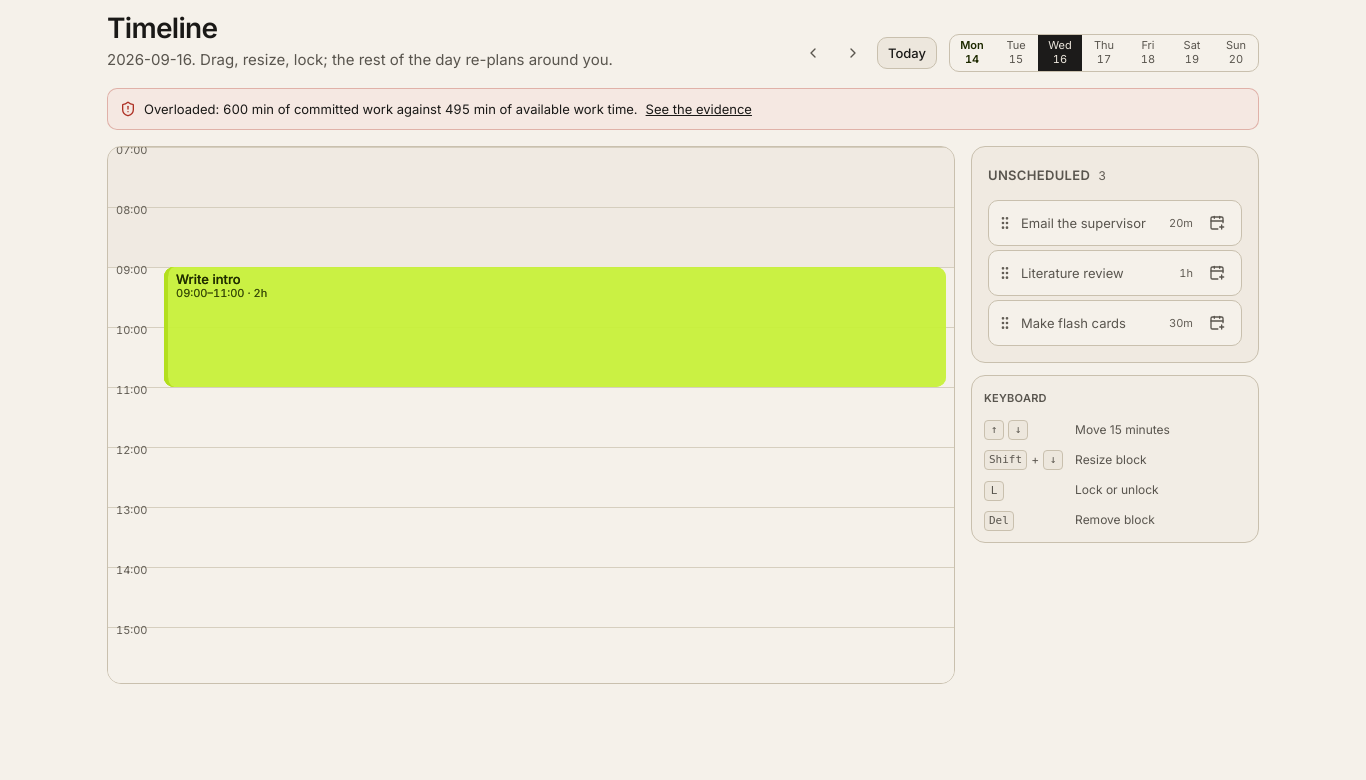
it: TimelinePage evidence links › shows the overload warning from the shared day-load result, linking to the evidence
The width and height of the screenshot is (1366, 780).
(page scrolled)
Expected: the message with test id "overload-warning" shows "Overloaded: 600 min of committed work against 495 min of available work time.", [107,88,1259,130]
Click the button "Today" at x=907, y=53, box [877,37,937,69]
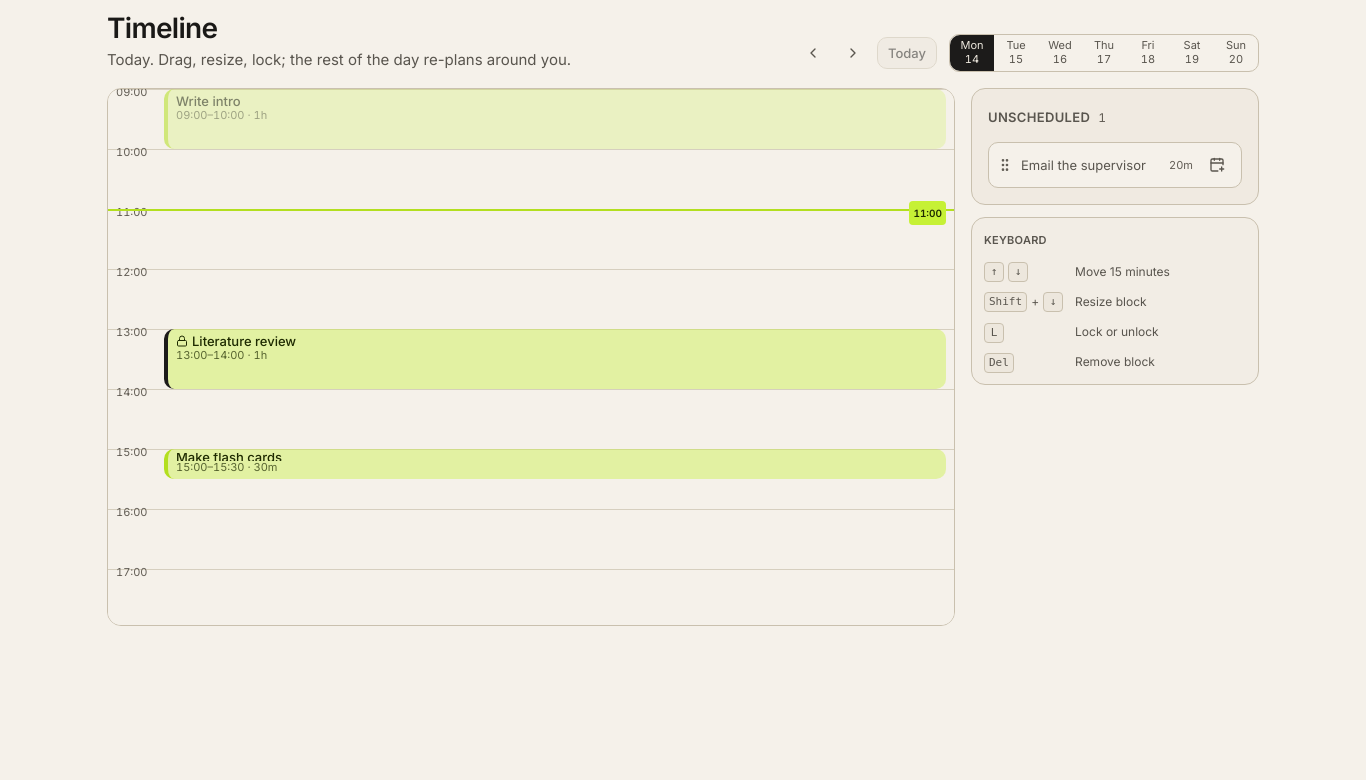
Expected: the message with test id "overload-warning" is gone
